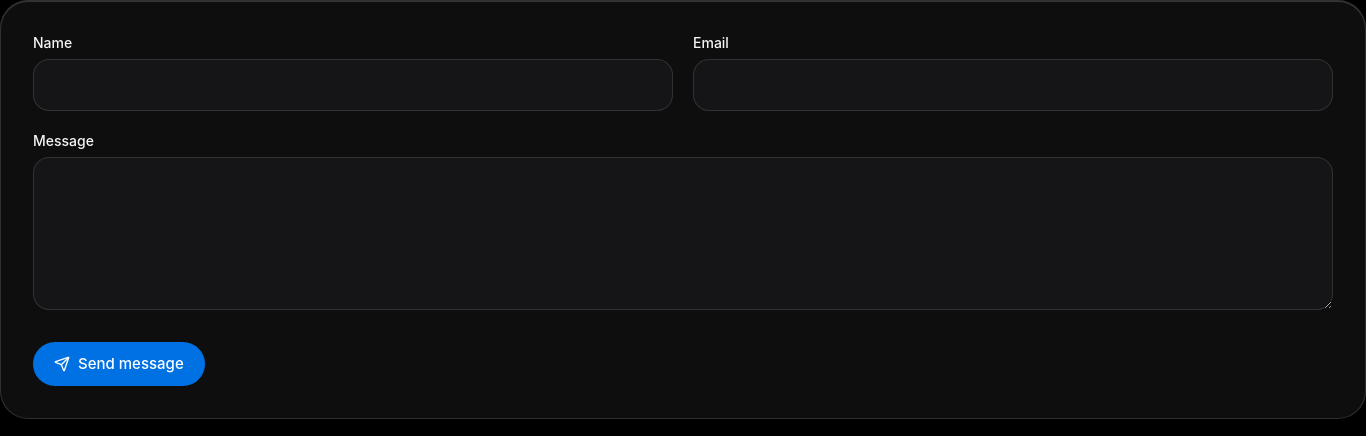
ContactForm › keeps the message and offers direct email when sending fails
Type "Ada" into the field labelled "Name" at (353, 85), box [33,59,673,110]
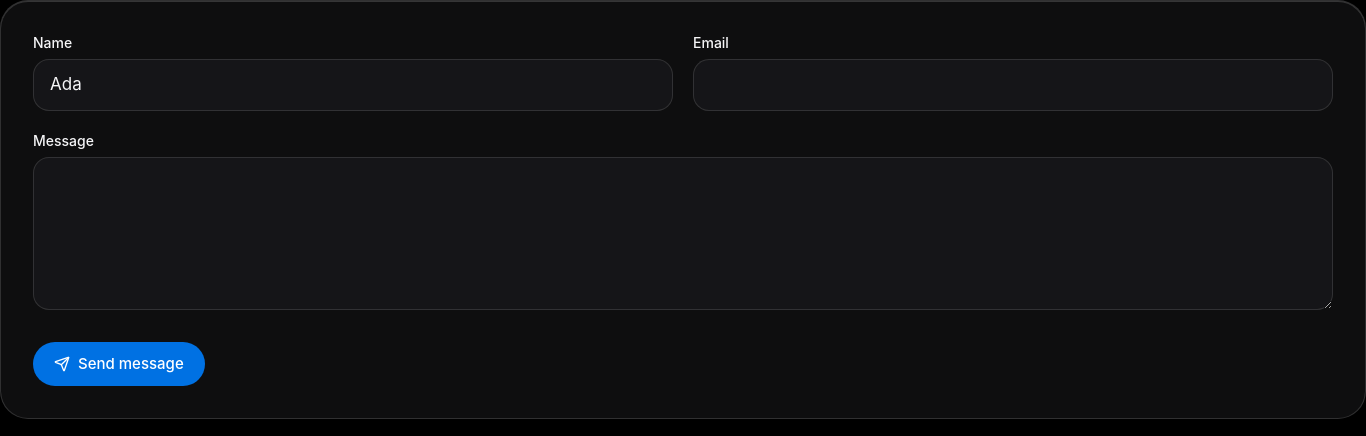
Type "ada@example.com" into the field labelled "Email" at (1013, 85), box [693,59,1333,110]
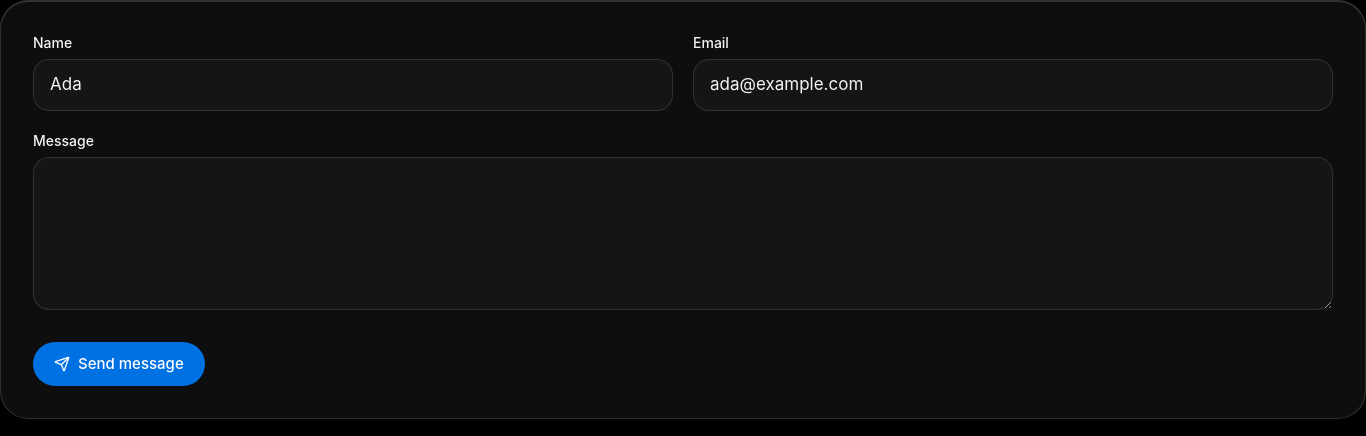
Type "I would like to discuss a GenAI platform." into the text box labelled "Message" at (683, 233), box [33,156,1333,310]
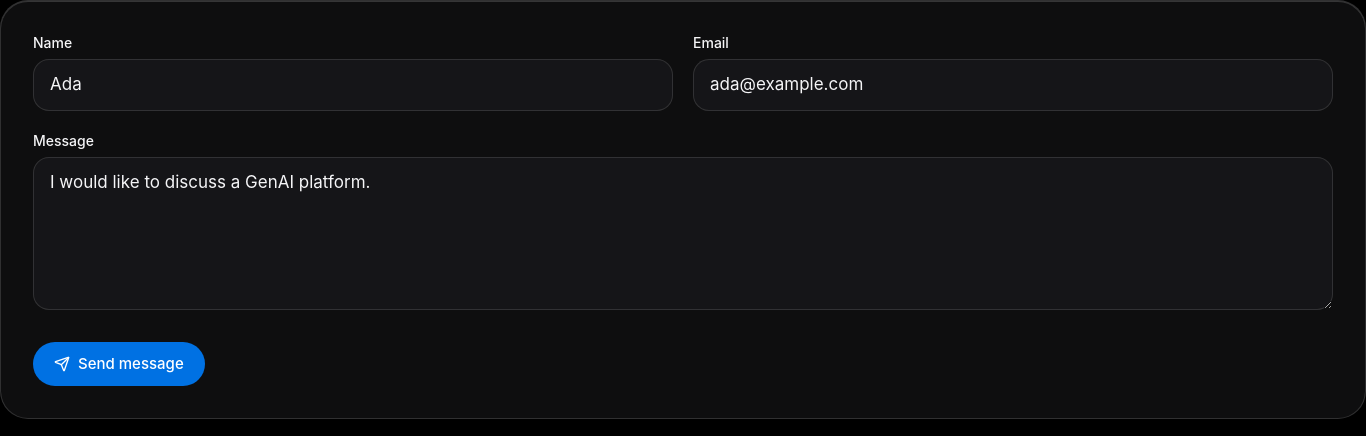
Click the button "Send message" at (119, 364), box [33,342,205,386]
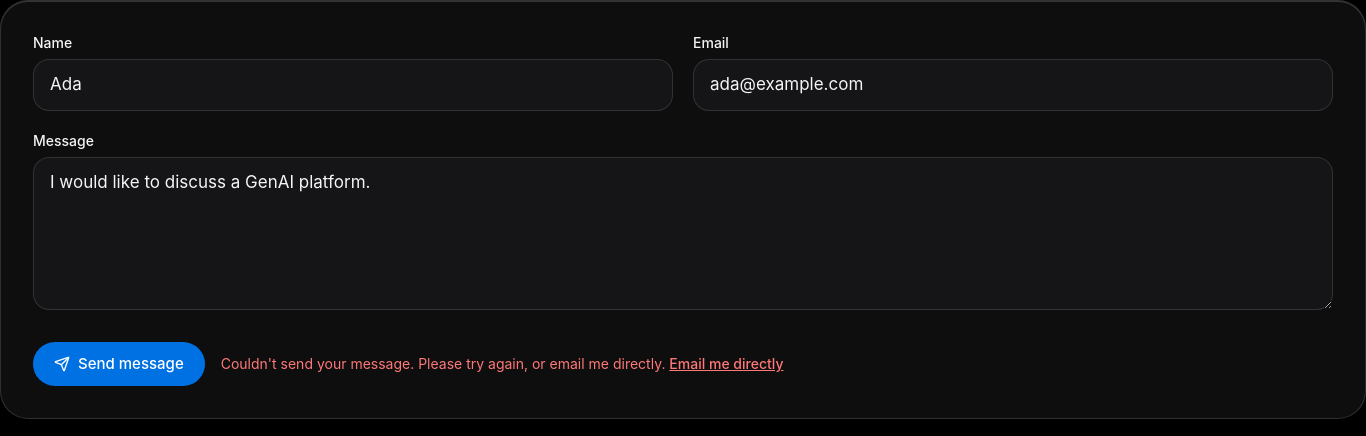
expect the message shows "Couldn't send": met, box [221,355,665,372]
